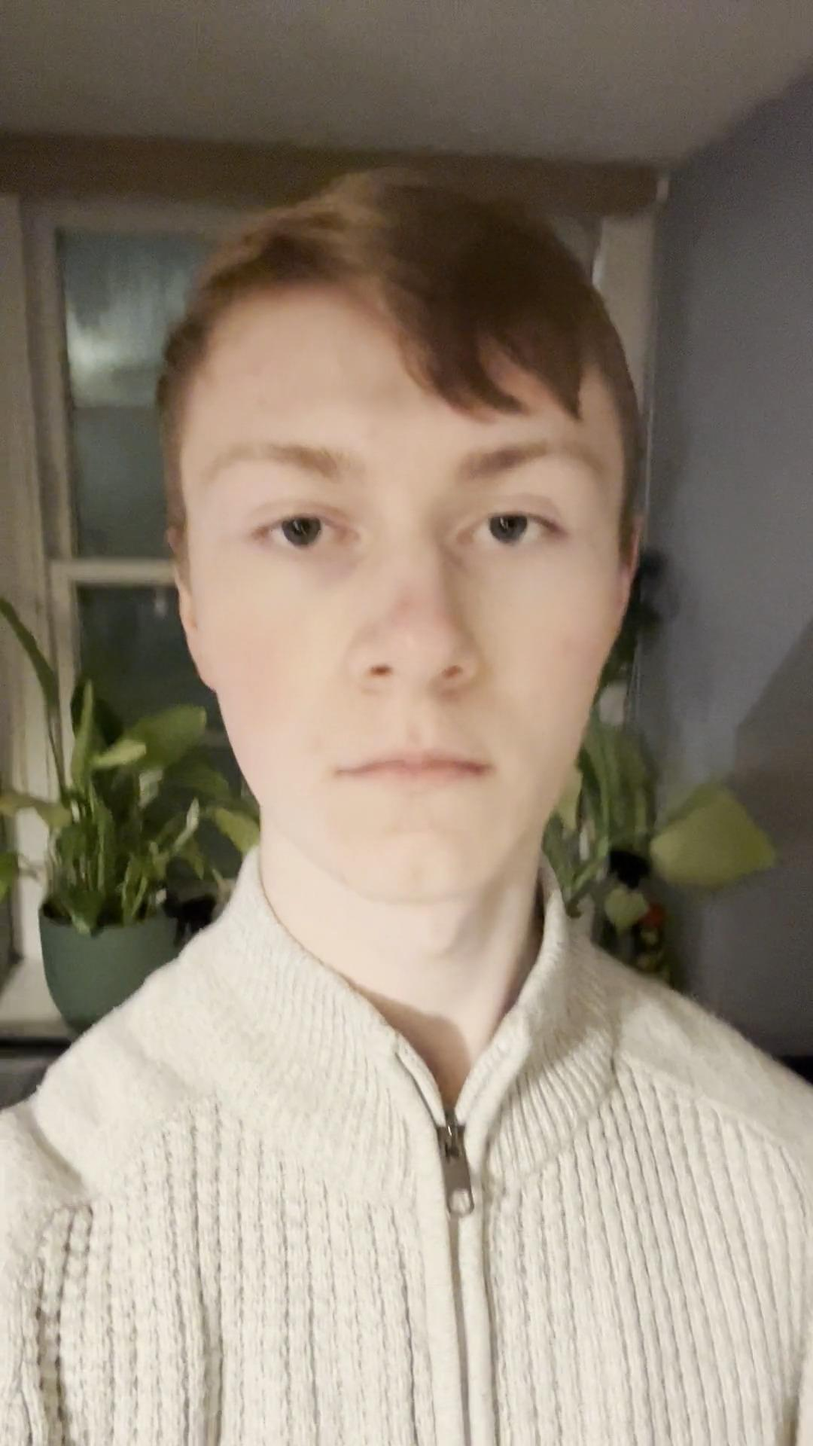NO-Hardhat: (176, 269, 627, 907)
